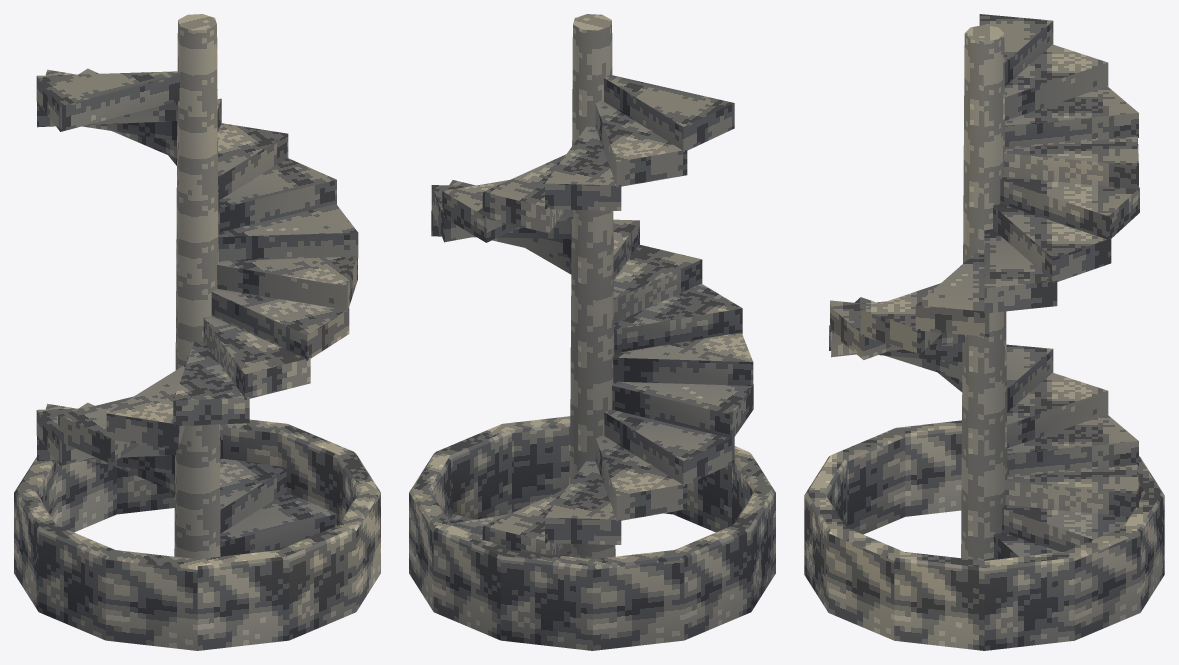
Rendered from cst.spiral_stair__tall.glb.
3 renders of one model, left to right at view 1: azimuth 30°, elevation 25°; view 2: azimuth 150°, elevation 25°; view 3: azimuth 270°, elevation 25°, orthographic.
Visible parts, largest first — view 1: kit_steps, kit_drum, kit_newel; view 2: kit_steps, kit_drum, kit_newel; view 3: kit_steps, kit_drum, kit_newel.
Boxes of the visible parts, left/top/right/bottom form: kit_steps: left=36, top=68, right=358, bottom=556; kit_drum: left=14, top=419, right=380, bottom=650; kit_newel: left=174, top=14, right=220, bottom=559; kit_steps: left=431, top=75, right=753, bottom=556; kit_drum: left=409, top=416, right=775, bottom=650; kit_newel: left=569, top=14, right=615, bottom=559; kit_steps: left=829, top=14, right=1139, bottom=560; kit_drum: left=804, top=420, right=1164, bottom=650; kit_newel: left=961, top=25, right=1007, bottom=560.
Size of the model in its own units: 3.98 by 6.6 by 3.98.
3 materials, 3 textured.
